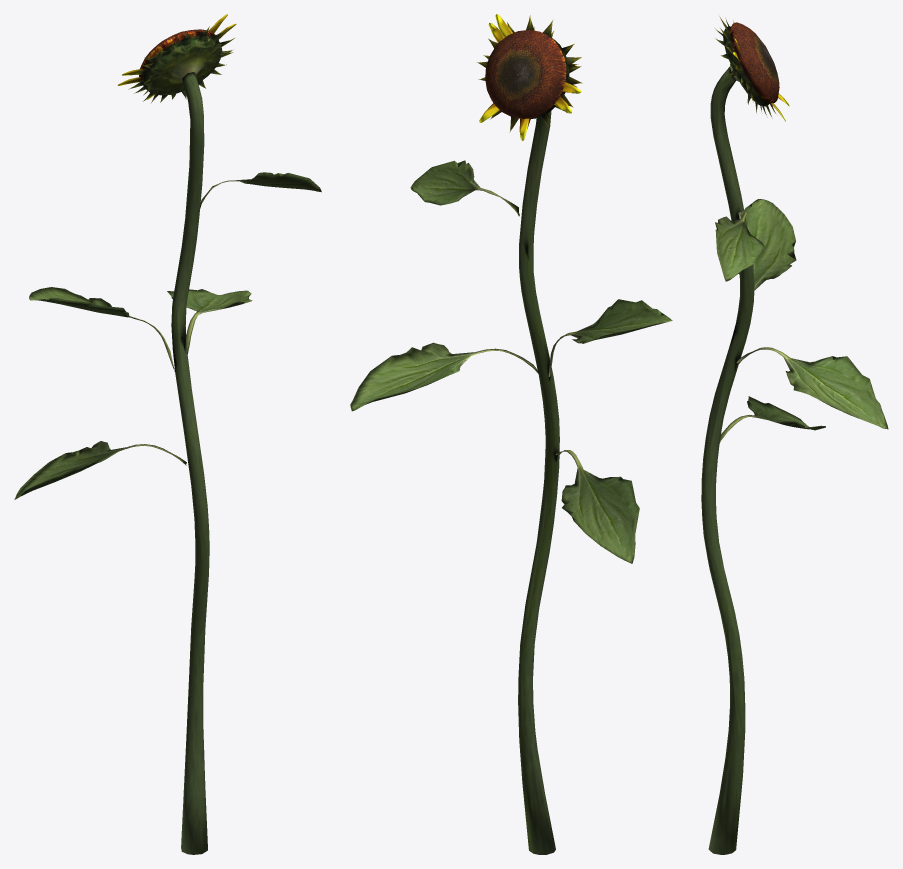
Rendered from Girasole08.fbx.
3 views of the same model, side by side, from view 1: azimuth 30°, elevation 25°; view 2: azimuth 150°, elevation 25°; view 3: azimuth 270°, elevation 25° (orthographic).
Visible parts, largest first — view 1: Girasole08; view 2: Girasole08; view 3: Girasole08.
Boxes of the visible parts, x1=… form: Girasole08: x1=14, y1=14, x2=321, y2=854; Girasole08: x1=350, y1=14, x2=672, y2=854; Girasole08: x1=701, y1=16, x2=888, y2=854.
Size of the model in its own units: 22.16 by 63.11 by 12.88.
